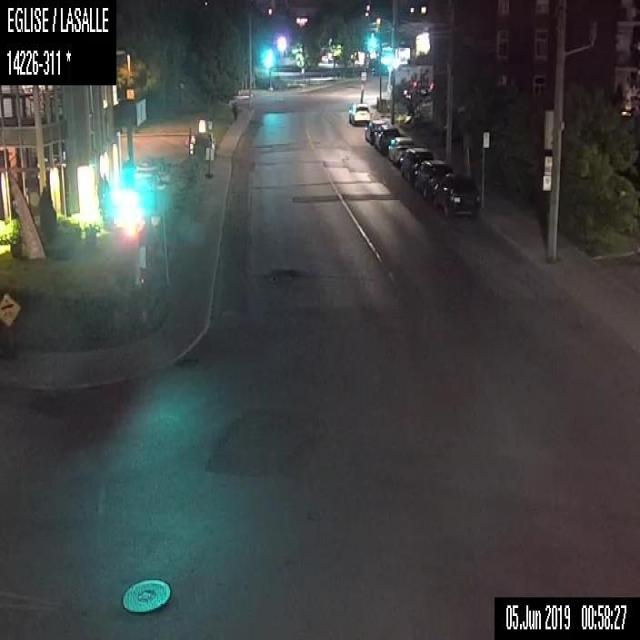pedestrian: (232, 101, 237, 120)
vehicle: (429, 170, 481, 215), (398, 147, 434, 183), (413, 158, 445, 196), (387, 135, 412, 165), (374, 122, 398, 150), (346, 100, 372, 124), (364, 117, 384, 145)
